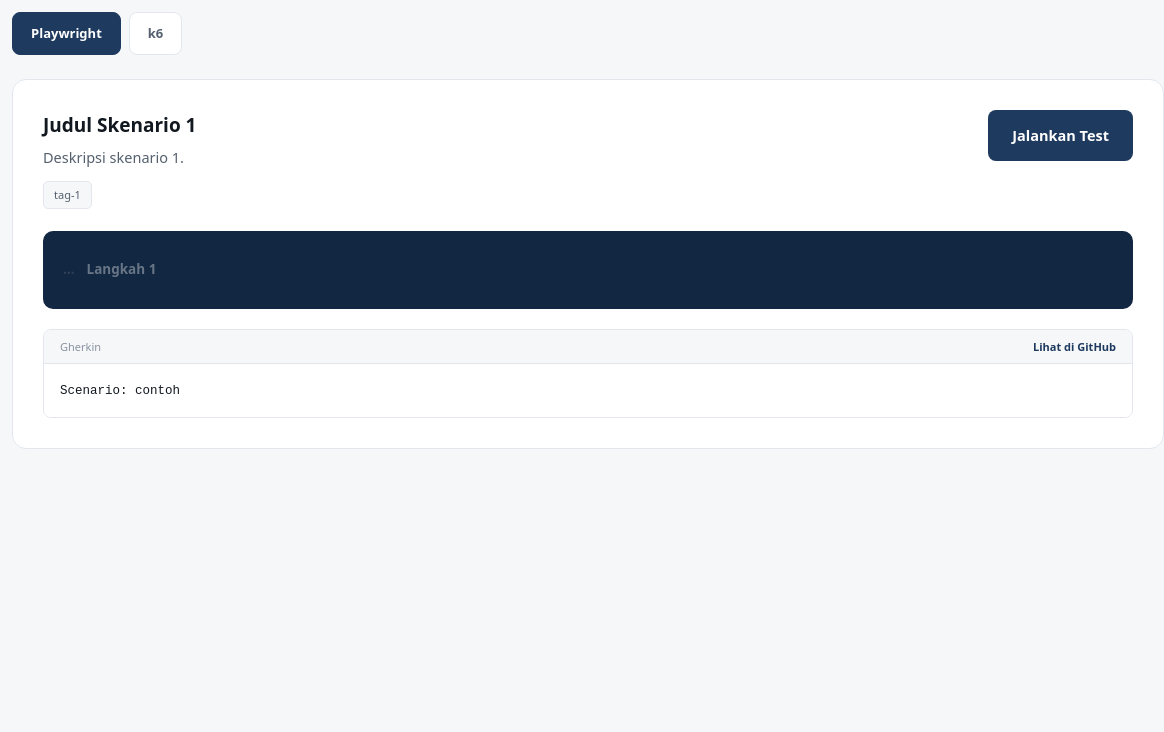
Scenario: LabRunner — perpindahan tab › skenario yang baru dibuka tampil dalam keadaan idle, bukan mewarisi keadaan tab sebelumnya
Note: Mulai replay di tab pertama, lalu pindah sebelum selesai.
Click the button "Jalankan Test" at (1061, 135), box x1=988 y1=110 x2=1133 y2=161
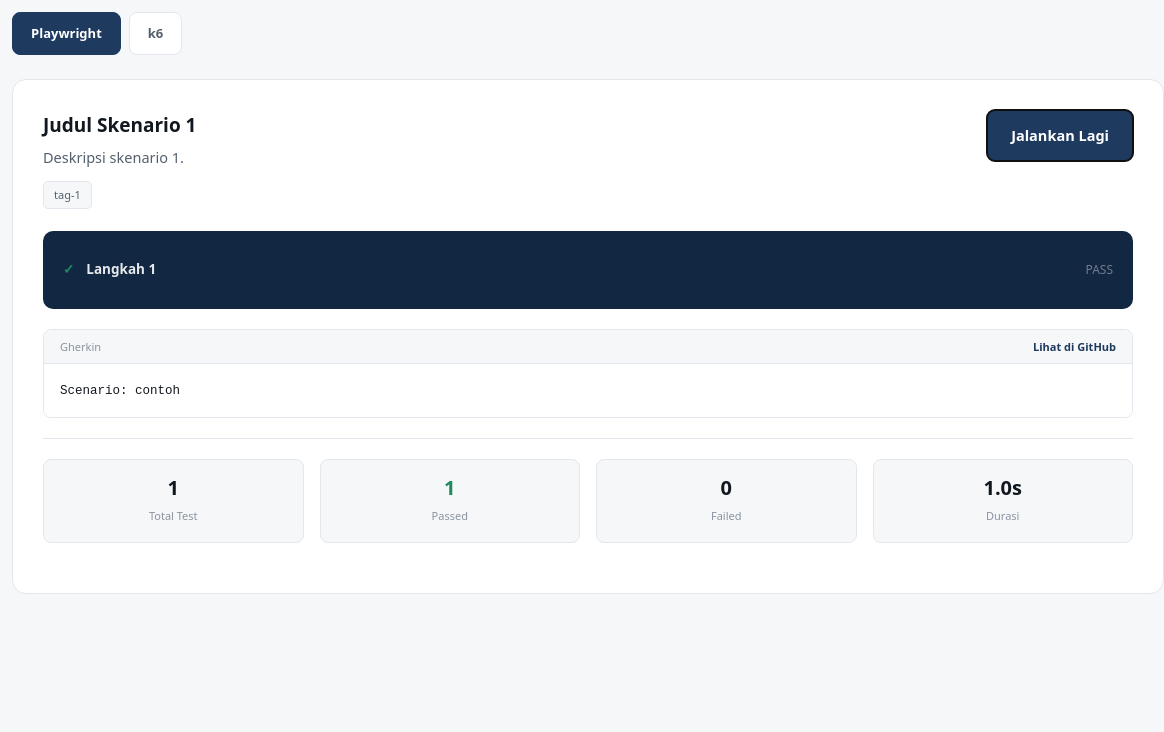
Click the tab "k6" at (156, 33), box x1=129 y1=12 x2=182 y2=55
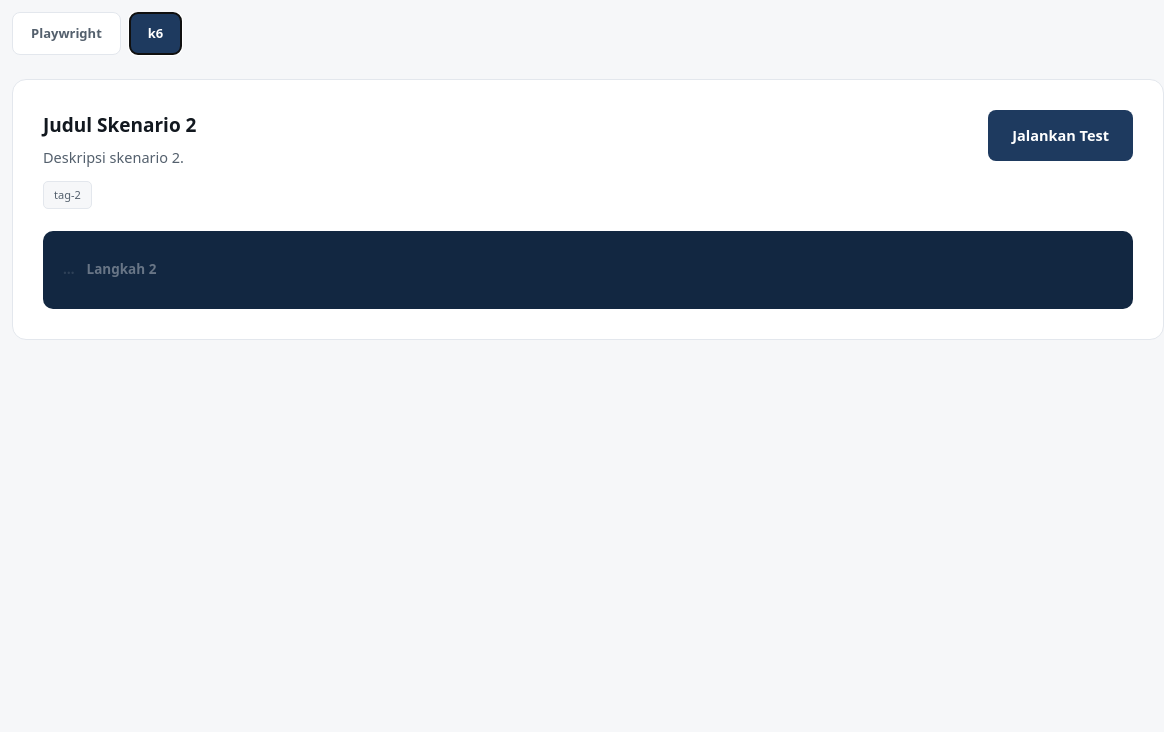
Result: the button "Jalankan Test" is shown at x1=988 y1=110 x2=1133 y2=161
